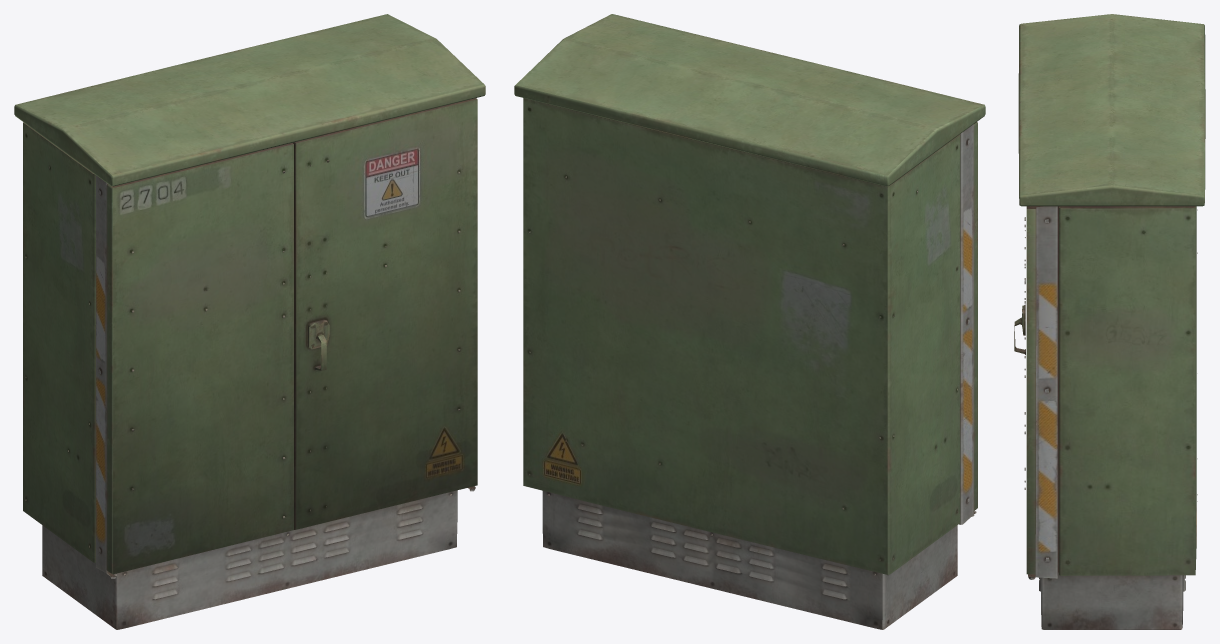
File: real_utility.glb
The picture shows the model from 3 angles, left to right: view 1: azimuth 30°, elevation 25°; view 2: azimuth 150°, elevation 25°; view 3: azimuth 270°, elevation 25°; orthographic projection. The views are drawn at different scales.
Visible parts, largest first — view 1: real_utility; view 2: real_utility; view 3: real_utility.
Boxes of the visible parts, x1=… form: real_utility: x1=14, y1=14, x2=485, y2=629; real_utility: x1=514, y1=14, x2=985, y2=629; real_utility: x1=1014, y1=14, x2=1205, y2=629.
Bounding box in the file's own units: 0.92 × 1.12 × 0.4295.
1 material, 1 textured.
